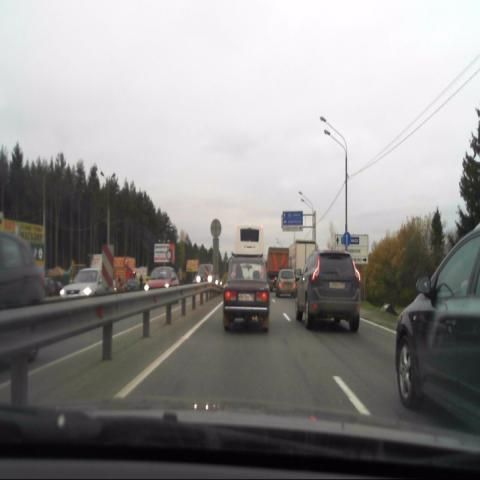4_1_1: (342, 231, 351, 247)
